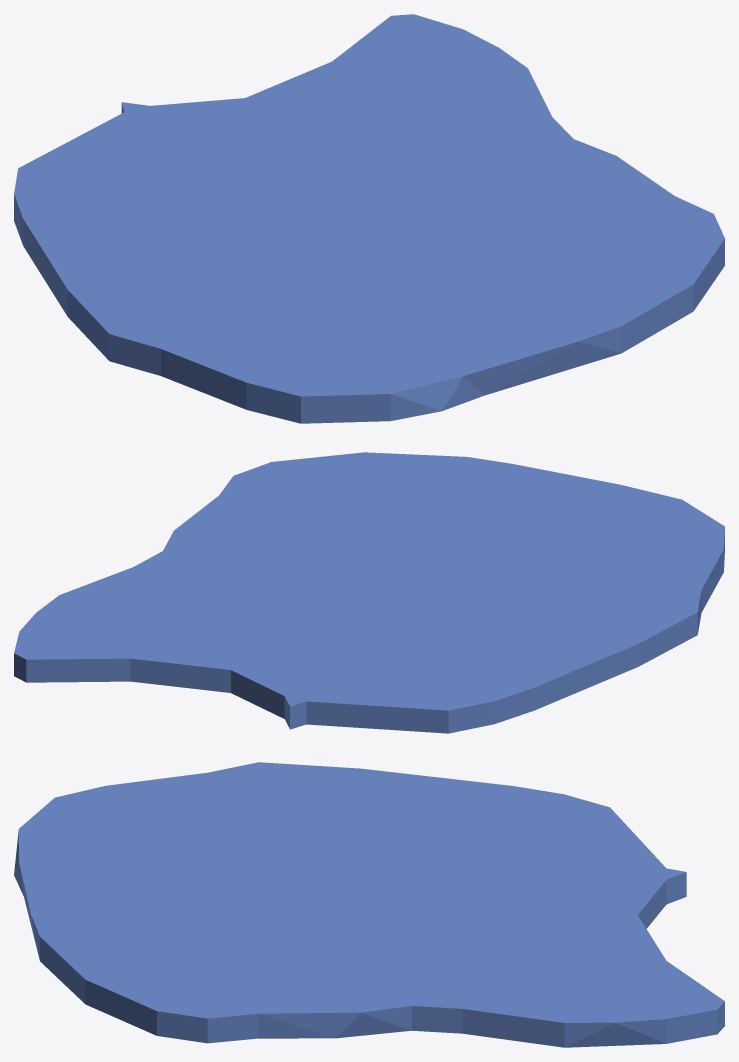
Rendered from SP_Ground05.fbx.
3 views of the same model, one above another, from view 1: azimuth 30°, elevation 25°; view 2: azimuth 150°, elevation 25°; view 3: azimuth 270°, elevation 25° (orthographic). The views are drawn at different scales.
Visible parts, largest first — view 1: SP_Ground05; view 2: SP_Ground05; view 3: SP_Ground05.
Boxes of the visible parts, x1=… form: SP_Ground05: x1=14, y1=14, x2=724, y2=423; SP_Ground05: x1=14, y1=452, x2=724, y2=733; SP_Ground05: x1=14, y1=762, x2=724, y2=1047.
Size of the model in its own units: 436 by 19.33 by 502.
Materials: 1 (1 with a texture image).
